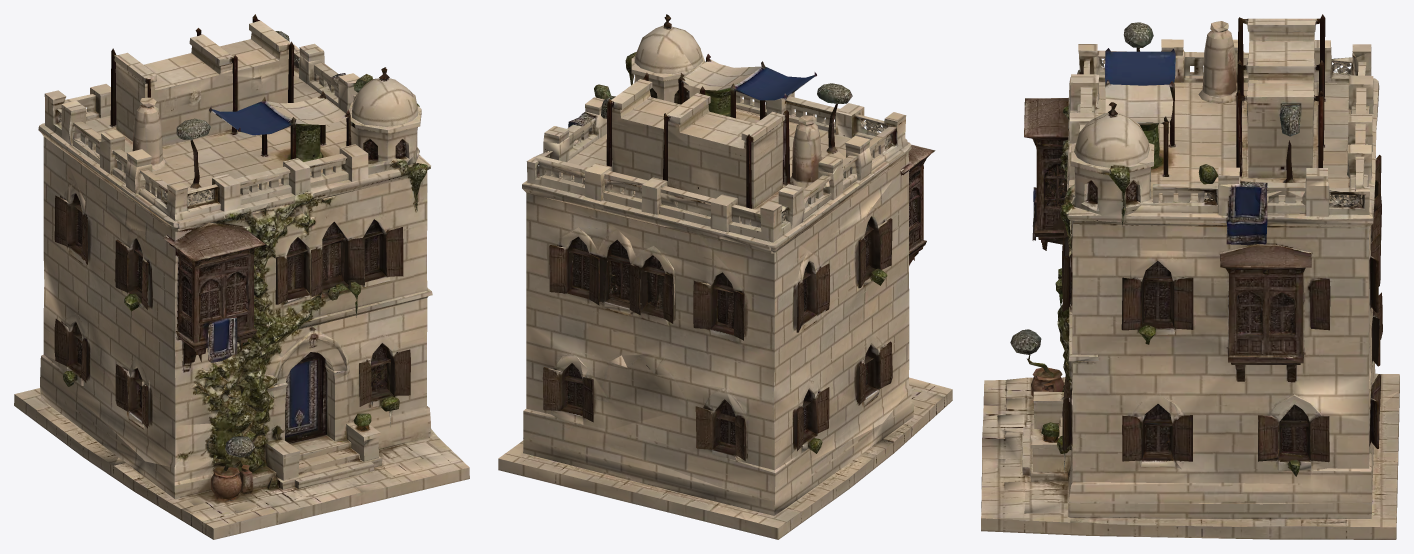
File: house-2-lod.glb
3 views of the same model, side by side, from view 1: azimuth 30°, elevation 25°; view 2: azimuth 150°, elevation 25°; view 3: azimuth 270°, elevation 25° (orthographic). The views are drawn at different scales.
Bounding box in the file's own units: 7.28 × 8.93 × 8.15.
1 material, 1 textured.
